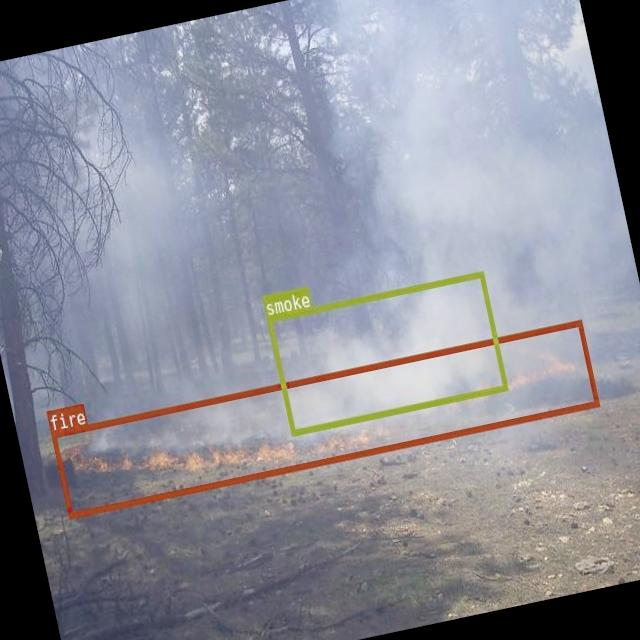fire: (50, 318, 598, 517)
smoke: (265, 270, 507, 435)
